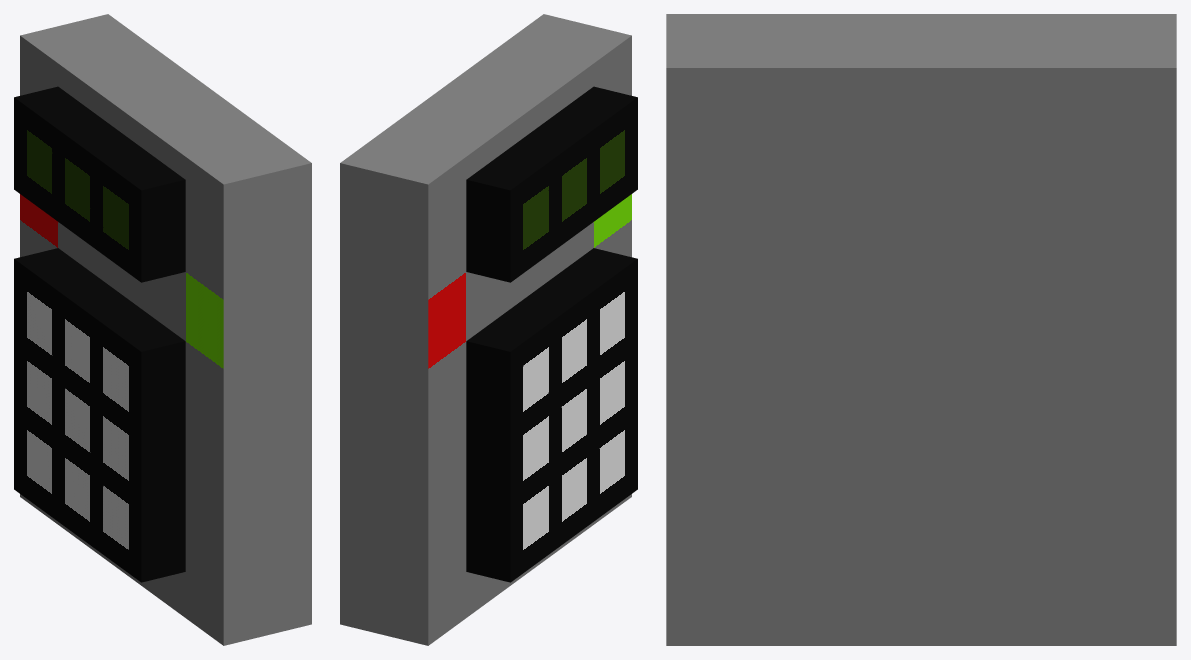
The model's file is CodePanelMODEL.gltf.
3 views of the same model, side by side, from view 1: azimuth 30°, elevation 25°; view 2: azimuth 150°, elevation 25°; view 3: azimuth 270°, elevation 25° (orthographic). The views are drawn at different scales.
Visible parts, largest first — view 1: mesh (×3); view 2: mesh (×3); view 3: mesh.
Boxes of the visible parts, <box> form: mesh (×3): <box>14,14,311,645</box>; mesh (×3): <box>340,14,637,645</box>; mesh: <box>666,14,1176,645</box>.
Bounding box in the file's own units: 0.375 × 1.25 × 1.
Materials: 3 (3 with a texture image).
